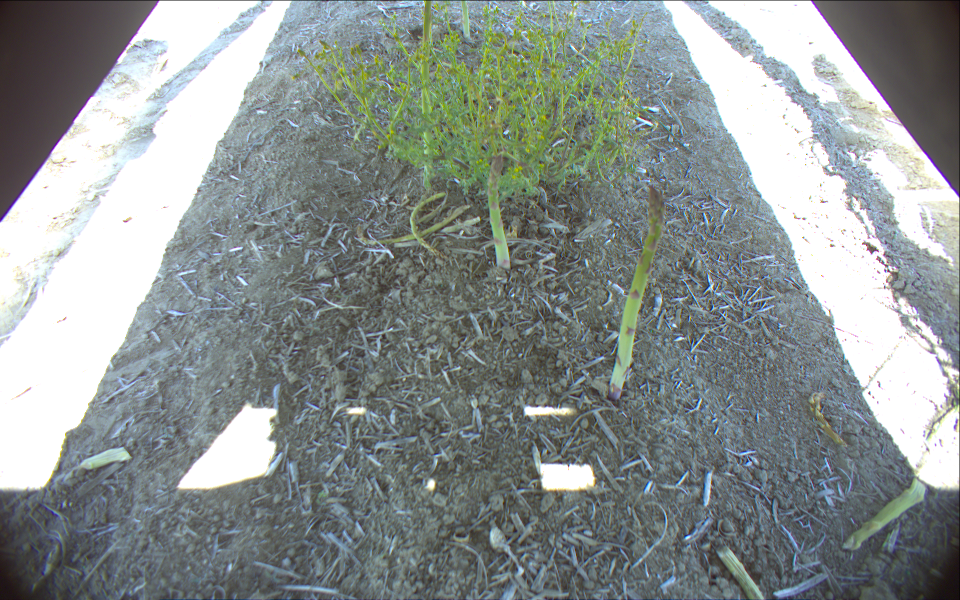aspa: (605, 185, 669, 403), (421, 1, 442, 187), (487, 155, 510, 275), (457, 1, 471, 40)
